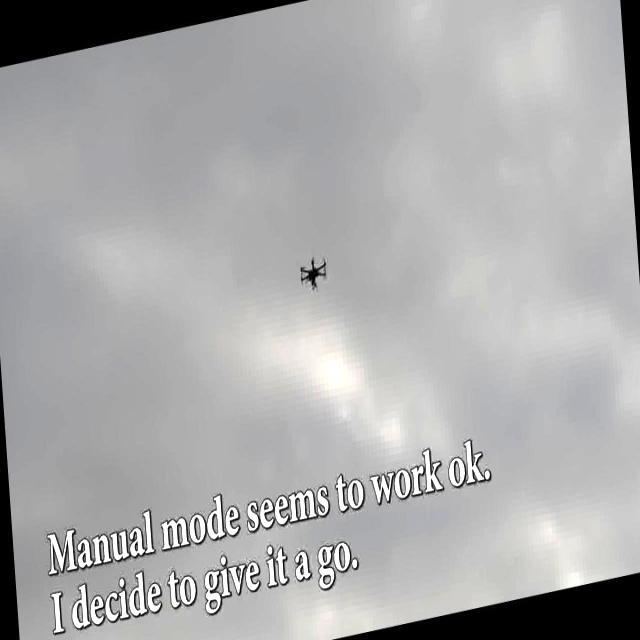drone: (296, 251, 332, 299)
